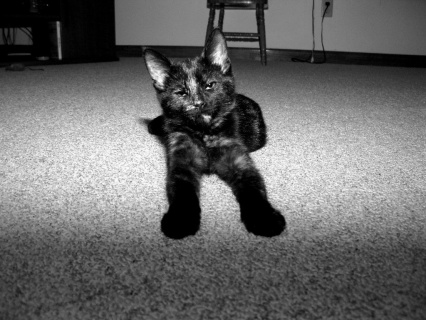Cat: (143, 26, 288, 242)
